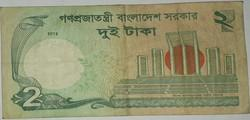2 taka: (1, 7, 247, 115)
